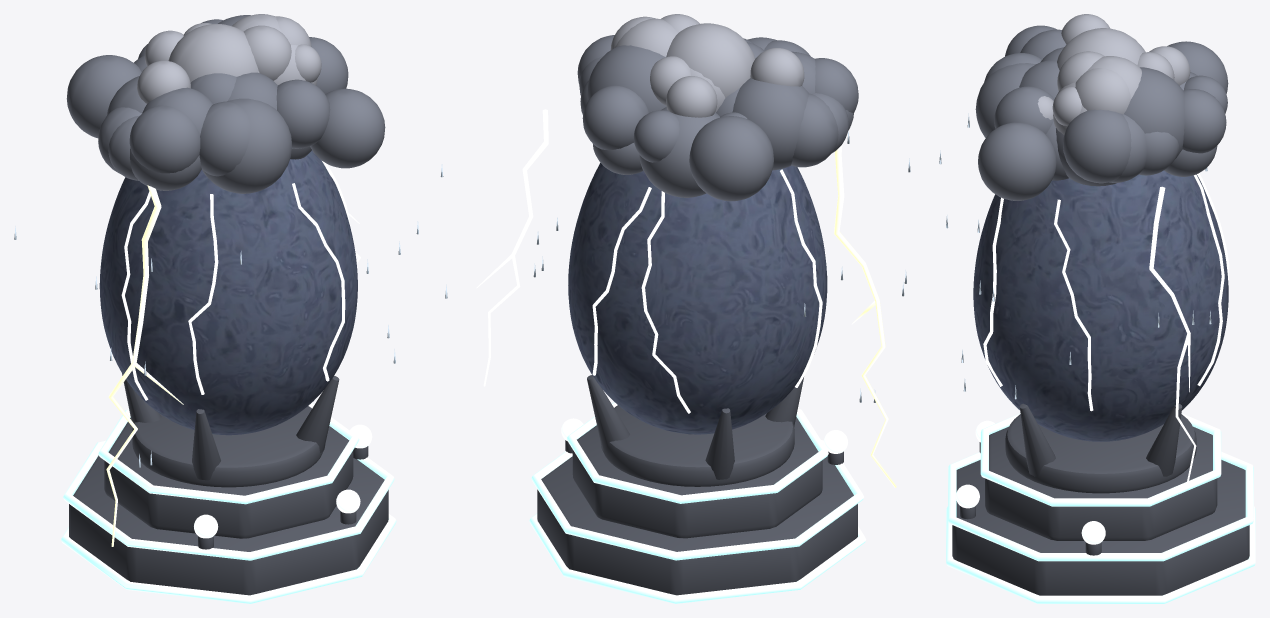
The model's file is thunderstormegg.glb.
3 views of the same model, side by side, from view 1: azimuth 30°, elevation 25°; view 2: azimuth 150°, elevation 25°; view 3: azimuth 270°, elevation 25° (orthographic).
Visible parts, largest first — view 1: ThunderstormEgg_Body, ThunderstormEgg_Stand_Base, ThunderstormEgg_Stand_Mid, ThunderstormEgg_Stand_Cup, ThunderstormEgg_Thundercloud.028, ThunderstormEgg_Thundercloud.022, ThunderstormEgg_Stand_Trim, ThunderstormEgg_Thundercloud.018, ThunderstormEgg_Thundercloud.032, ThunderstormEgg_Thundercloud.015, ThunderstormEgg_Stand_Trim.002, ThunderstormEgg_Stand_Trim.001 (+22 smaller); view 2: ThunderstormEgg_Body, ThunderstormEgg_Stand_Base, ThunderstormEgg_Stand_Mid, ThunderstormEgg_Stand_Cup, ThunderstormEgg_Thundercloud.015, ThunderstormEgg_Stand_Trim, ThunderstormEgg_Thundercloud.032, ThunderstormEgg_Thundercloud.020, ThunderstormEgg_Stand_Trim.002, ThunderstormEgg_Stand_Trim.001, ThunderstormEgg_Thundercloud, ThunderstormEgg_Thundercloud.003 (+19 smaller); view 3: ThunderstormEgg_Body, ThunderstormEgg_Stand_Base, ThunderstormEgg_Stand_Mid, ThunderstormEgg_Stand_Cup, ThunderstormEgg_Thundercloud.022, ThunderstormEgg_Stand_Trim, ThunderstormEgg_Thundercloud.014, ThunderstormEgg_Stand_Trim.001, ThunderstormEgg_Stand_Trim.002, ThunderstormEgg_Thundercloud.003, ThunderstormEgg_Thundercloud, ThunderstormEgg_Thundercloud.031 (+28 smaller).
Part boxes in pixels (box(x1,y1,x2,y2)): ThunderstormEgg_Body: box(99, 150, 357, 435); ThunderstormEgg_Stand_Base: box(69, 455, 388, 595); ThunderstormEgg_Stand_Mid: box(104, 418, 353, 538); ThunderstormEgg_Stand_Cup: box(132, 406, 325, 487); ThunderstormEgg_Thundercloud.028: box(202, 98, 291, 193); ThunderstormEgg_Thundercloud.022: box(310, 88, 385, 168); ThunderstormEgg_Stand_Trim: box(63, 440, 394, 560); ThunderstormEgg_Thundercloud.018: box(129, 105, 200, 173); ThunderstormEgg_Thundercloud.032: box(168, 24, 259, 82); ThunderstormEgg_Thundercloud.015: box(66, 55, 141, 138); ThunderstormEgg_Stand_Trim.002: box(61, 514, 396, 603); ThunderstormEgg_Stand_Trim.001: box(98, 403, 359, 504); ThunderstormEgg_Body: box(568, 163, 827, 434); ThunderstormEgg_Stand_Base: box(537, 456, 857, 595); ThunderstormEgg_Stand_Mid: box(572, 417, 822, 538); ThunderstormEgg_Stand_Cup: box(601, 405, 794, 486); ThunderstormEgg_Thundercloud.015: box(689, 116, 773, 201); ThunderstormEgg_Stand_Trim: box(531, 440, 863, 560); ThunderstormEgg_Thundercloud.032: box(666, 23, 754, 97); ThunderstormEgg_Thundercloud.020: box(732, 78, 809, 170); ThunderstormEgg_Stand_Trim.002: box(529, 513, 866, 603); ThunderstormEgg_Stand_Trim.001: box(567, 402, 828, 503); ThunderstormEgg_Thundercloud: box(582, 85, 648, 150); ThunderstormEgg_Thundercloud.003: box(587, 45, 666, 112); ThunderstormEgg_Body: box(973, 170, 1228, 441); ThunderstormEgg_Stand_Base: box(952, 460, 1249, 595); ThunderstormEgg_Stand_Mid: box(985, 426, 1217, 540); ThunderstormEgg_Stand_Cup: box(1005, 414, 1196, 493); ThunderstormEgg_Thundercloud.022: box(978, 122, 1056, 200); ThunderstormEgg_Stand_Trim: box(948, 451, 1253, 561); ThunderstormEgg_Thundercloud.014: box(1063, 109, 1131, 183); ThunderstormEgg_Stand_Trim.001: box(980, 413, 1221, 506); ThunderstormEgg_Stand_Trim.002: box(946, 506, 1255, 603); ThunderstormEgg_Thundercloud.003: box(1124, 67, 1184, 158); ThunderstormEgg_Thundercloud: box(1182, 89, 1226, 153); ThunderstormEgg_Thundercloud.031: box(1075, 68, 1130, 114).
Size of the model in its own units: 3.84 by 5.51 by 3.15.
9 materials, 1 textured.
